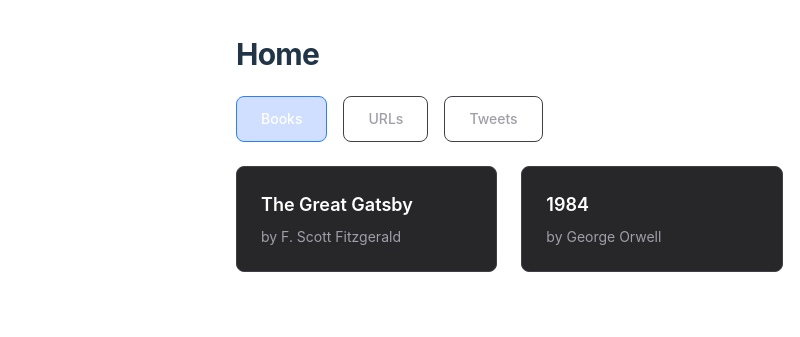
it: HomePage › Tab Navigation › switches to URLs tab when clicked and updates the URL
Expected: the heading "The Great Gatsby" is shown, [261,194,413,215]
// Click URLs tab
Click the tab "URLs".
click(386, 119)  # box [344,96,428,142]
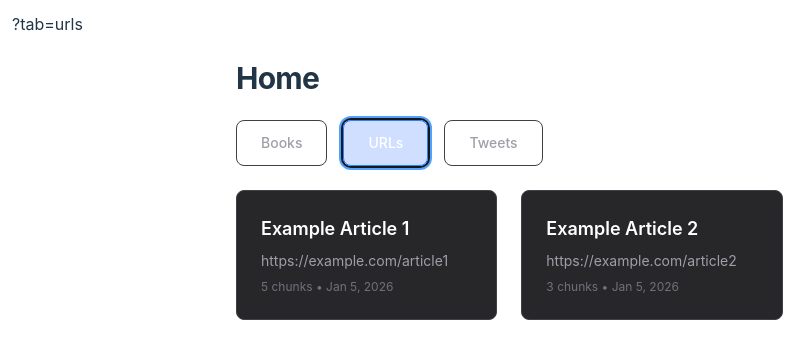
Now the heading "Example Article 1" is shown, box [261,218,409,239]
Now the heading "Example Article 2" is shown, box [546,218,698,239]
Now the button "The Great Gatsby" is gone
